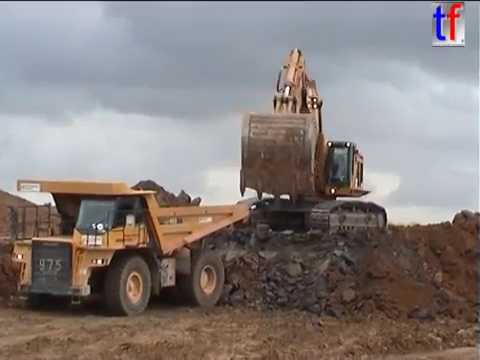excavator: (230, 45, 391, 241)
truck: (3, 177, 252, 318)
